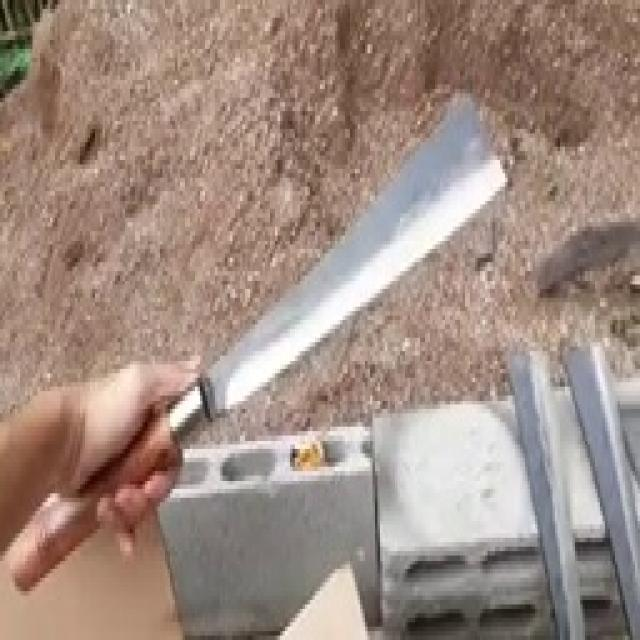eto: (3, 86, 515, 607)
